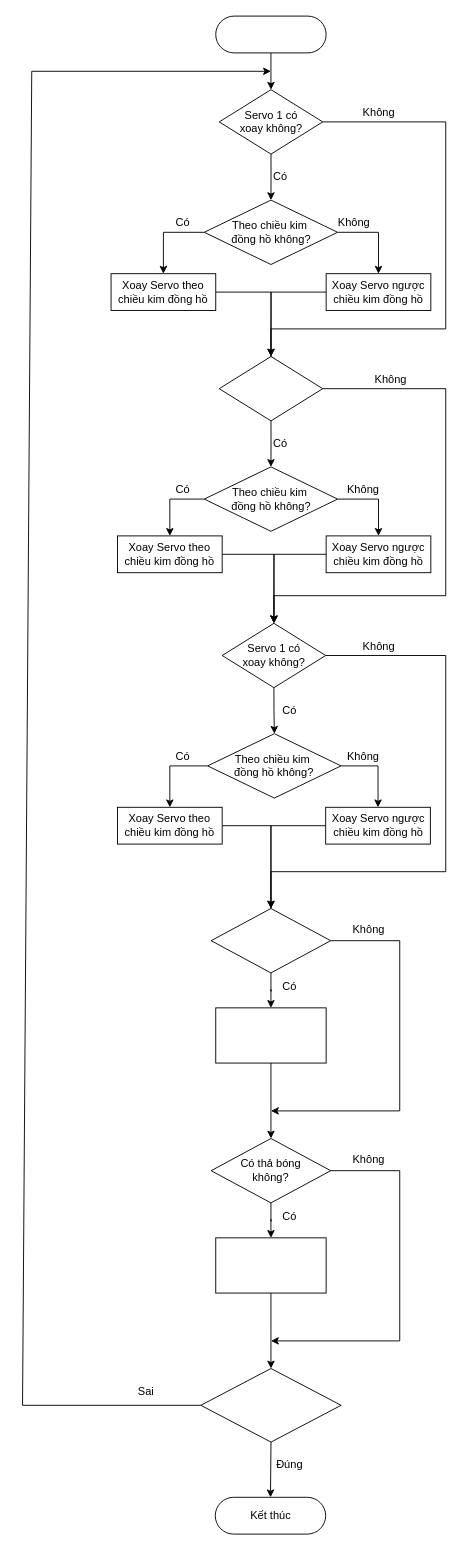
Some shapes in this 469 by 1550 pixel diagram are drawn without their labels. Here are the shapes that lost their labels. From the top down, the centre of each, then its label:
At point (270, 34): "Bắt đầu".
At point (270, 388): "Servo 2 có xoay không?".
At point (270, 940): "Có gắp bóng không?".
At point (270, 1035): "Tay gắp khép lại".
At point (270, 1265): "Tay gắp mở ra".
At point (270, 1405): "Ngắt nguồn không?".
